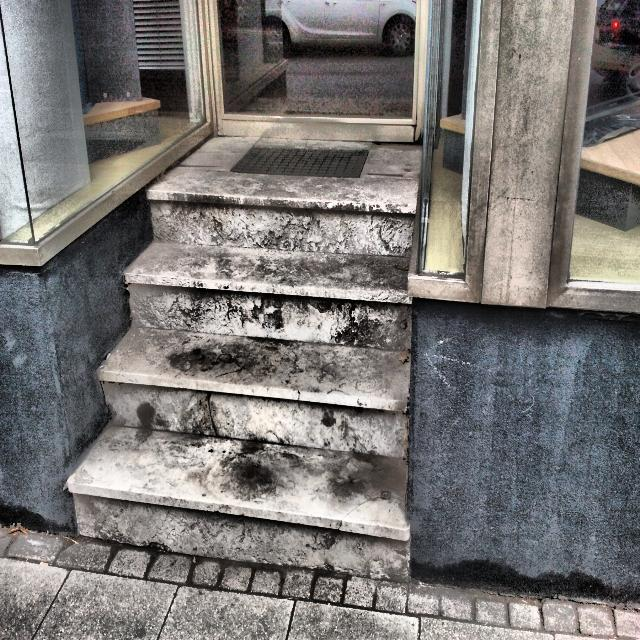escada: (68, 180, 416, 581)
